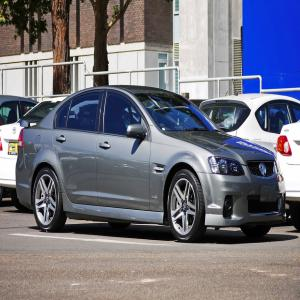Vehicle-registration-plate: (8, 142, 20, 155)
